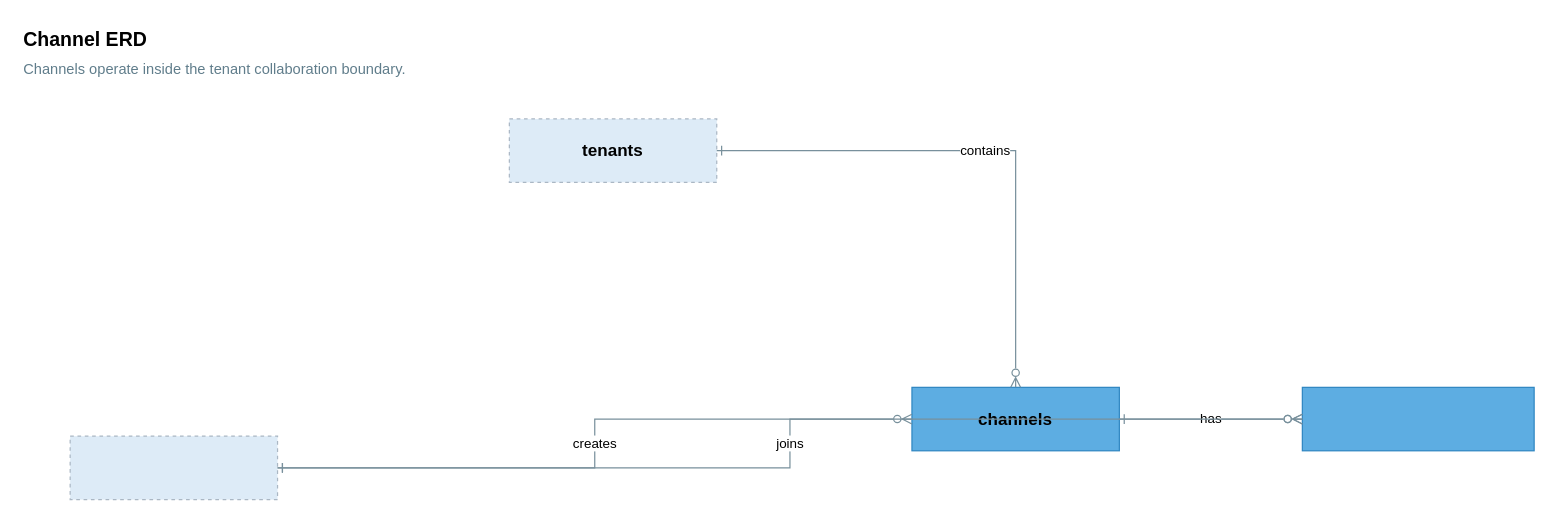
Image size: 1556x521. Some labels were removed from this diagram. Each missing label, with the box of its shape:
channel_members: (1301, 386, 1534, 451)
users: (69, 435, 278, 500)
